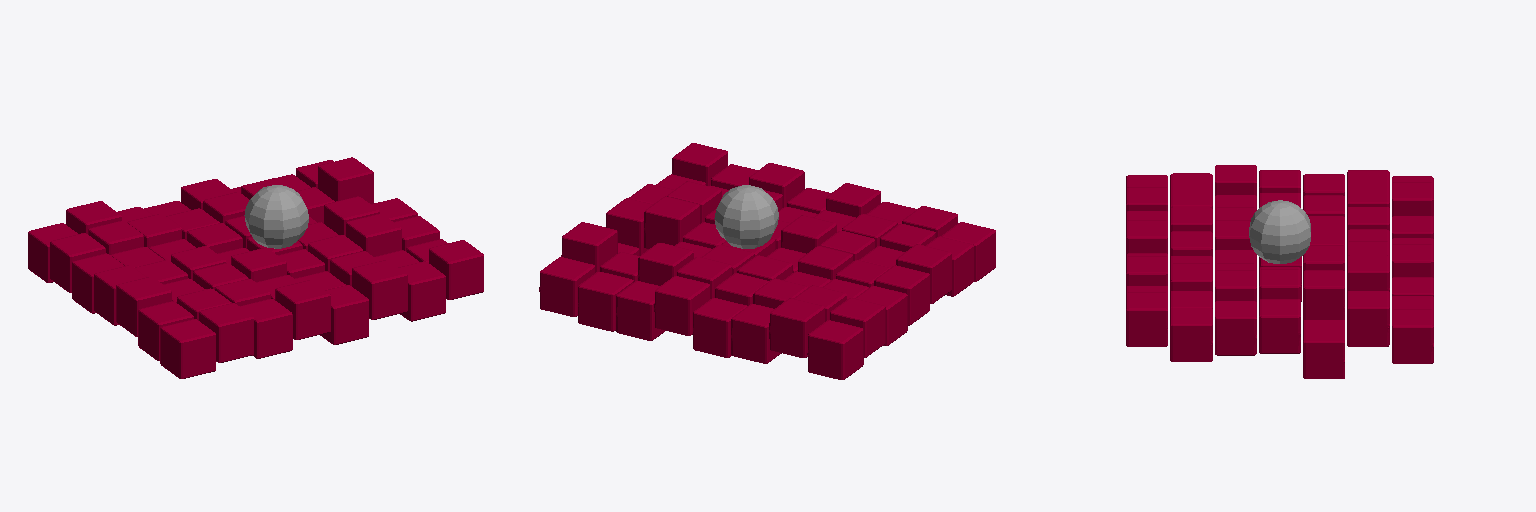
File: AmigaBall.obj
The picture shows the model from 3 angles: view 1: azimuth 30°, elevation 25°; view 2: azimuth 150°, elevation 25°; view 3: azimuth 270°, elevation 25°; orthographic projection.
Parts seen in each view (by area): view 1: CubeWhite_Cube.018, CubeRed_Cube.051, EmissionSphere_Sphere.002; view 2: CubeWhite_Cube.018, CubeRed_Cube.051, EmissionSphere_Sphere.002; view 3: CubeWhite_Cube.018, CubeRed_Cube.051, EmissionSphere_Sphere.002.
Part boxes in pixels (x1,y1,x2,y2): CubeWhite_Cube.018: (50,160,483,362); CubeRed_Cube.051: (28,157,447,378); EmissionSphere_Sphere.002: (244,185,308,248); CubeWhite_Cube.018: (539,143,973,357); CubeRed_Cube.051: (561,164,995,379); EmissionSphere_Sphere.002: (714,185,778,248); CubeWhite_Cube.018: (1126,170,1433,378); CubeRed_Cube.051: (1126,165,1433,361); EmissionSphere_Sphere.002: (1249,200,1310,263).
Bounding box in the file's own units: 16.7 × 6.63 × 14.6.